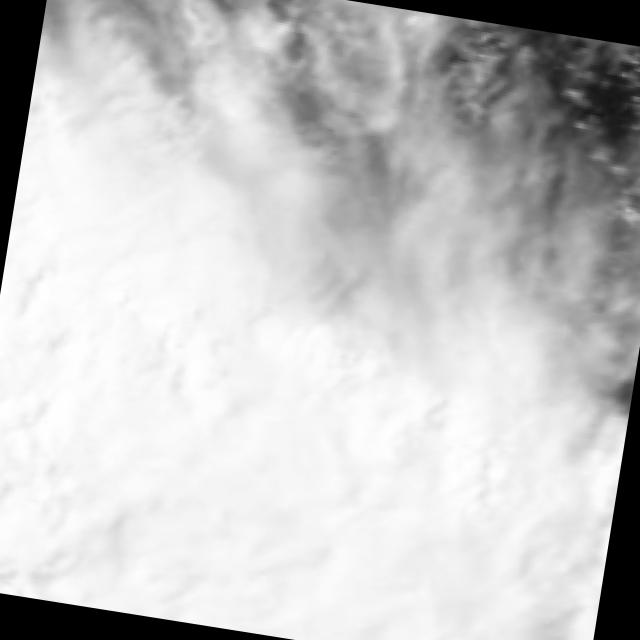CB: (57, 321, 467, 640), (0, 172, 265, 559), (433, 440, 617, 630)
